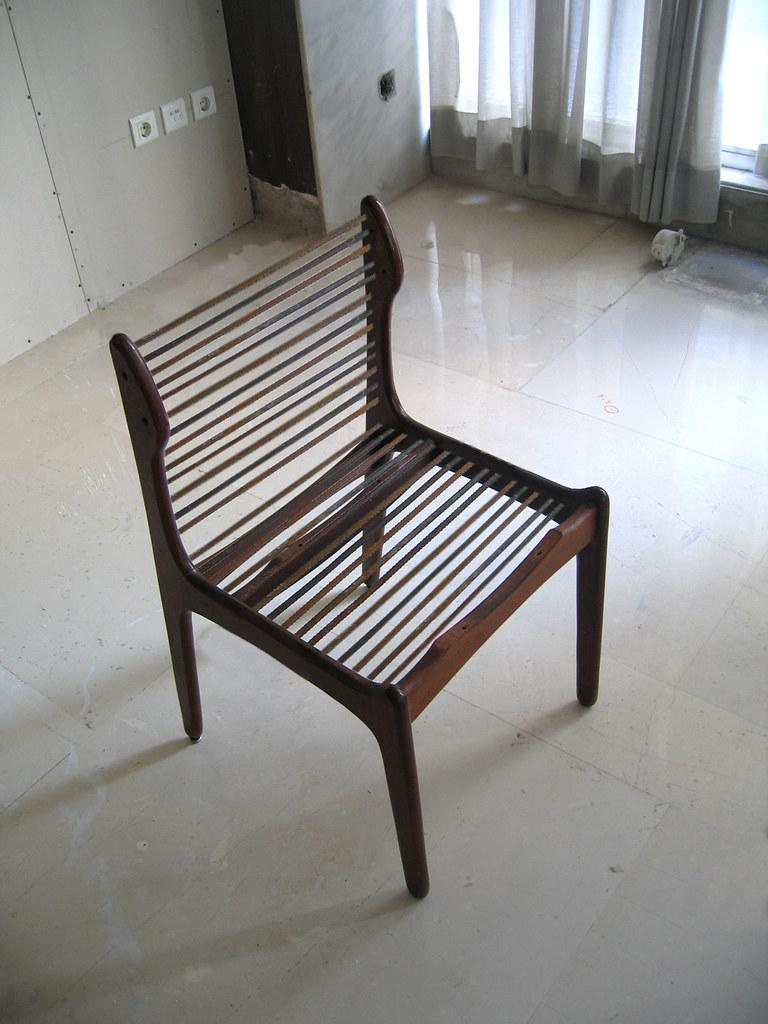chair: (109, 194, 611, 899)
